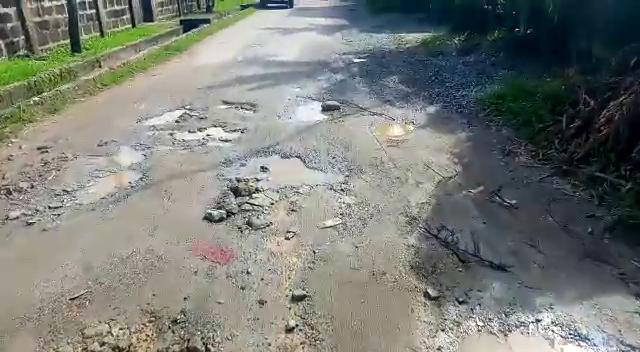pothole: (49, 143, 144, 208), (223, 148, 352, 187), (453, 323, 572, 352), (179, 123, 245, 142), (138, 107, 191, 128), (372, 118, 416, 142), (290, 96, 327, 123), (217, 98, 258, 113)
